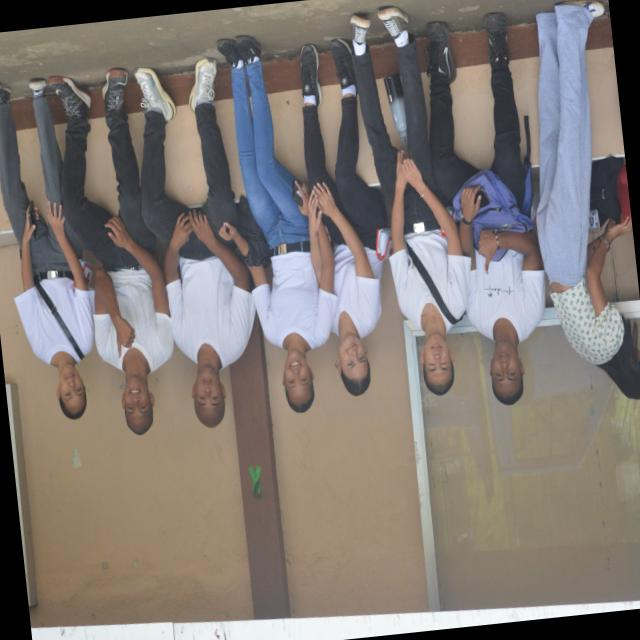person: (349, 6, 468, 395), (48, 68, 172, 434), (426, 21, 544, 404), (216, 35, 336, 411), (133, 57, 254, 427), (536, 0, 639, 398), (0, 79, 93, 418), (300, 38, 385, 395)
